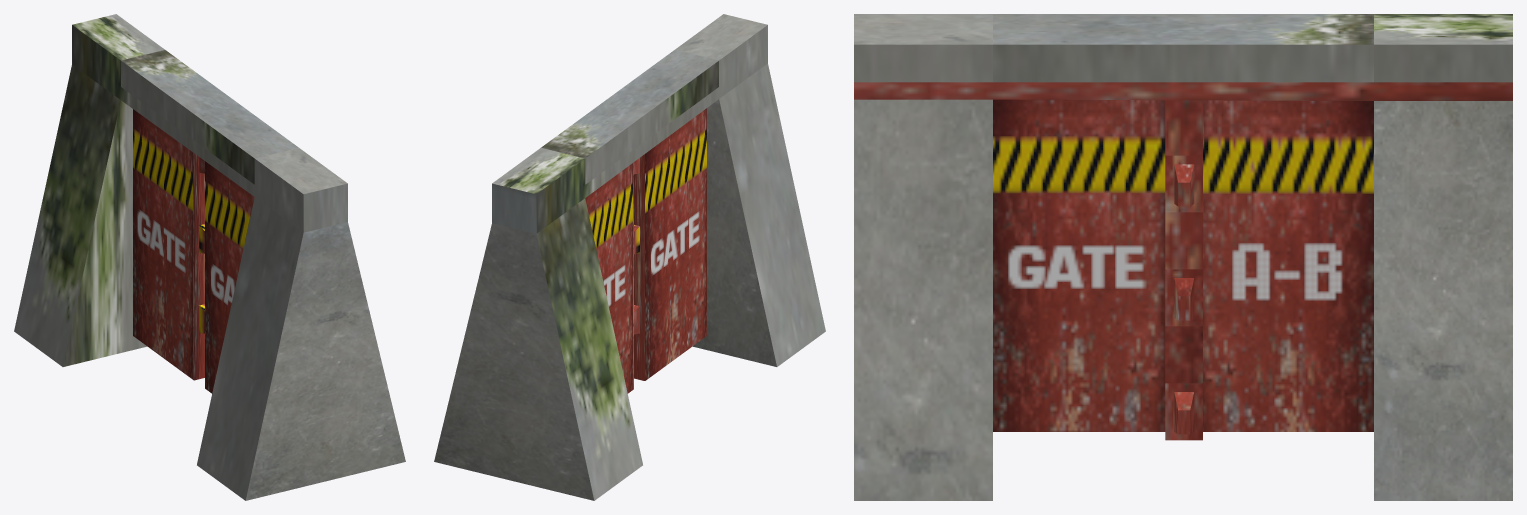
The model's file is GateA.fbx.
The picture shows the model from 3 angles, left to right: view 1: azimuth 30°, elevation 25°; view 2: azimuth 150°, elevation 25°; view 3: azimuth 270°, elevation 25°; orthographic projection. The views are drawn at different scales.
Parts seen in each view (by area): view 1: Cube, Door, Door.001; view 2: Cube, Door.001, Door; view 3: Cube, Door.001, Door, Door_Frame.
Part boxes in pixels (x1,y1,x2,y2): Cube: [14, 14, 405, 500]; Door: [133, 109, 204, 380]; Door.001: [205, 161, 254, 393]; Cube: [434, 14, 825, 500]; Door.001: [634, 108, 706, 380]; Door: [585, 162, 633, 393]; Cube: [854, 14, 1512, 500]; Door.001: [993, 99, 1165, 431]; Door: [1203, 100, 1373, 431]; Door_Frame: [1165, 100, 1202, 440].
Size of the model in its own units: 724 by 1261 by 1810.
2 materials, 2 textured.
